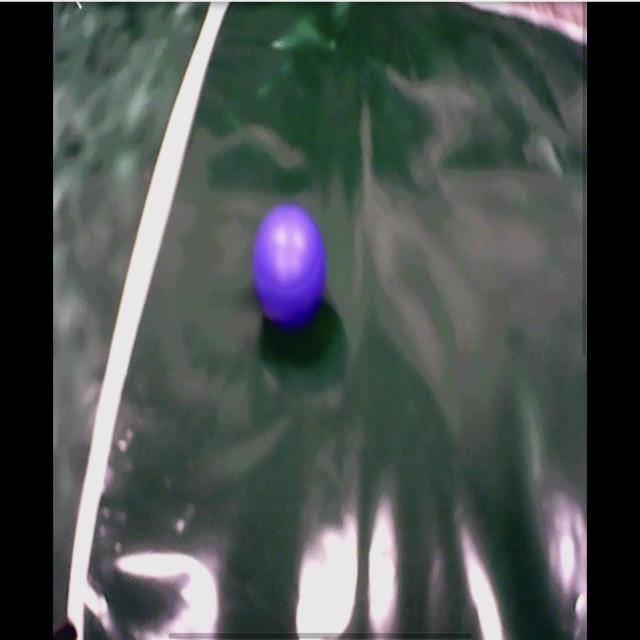ball: (255, 208, 328, 330)
